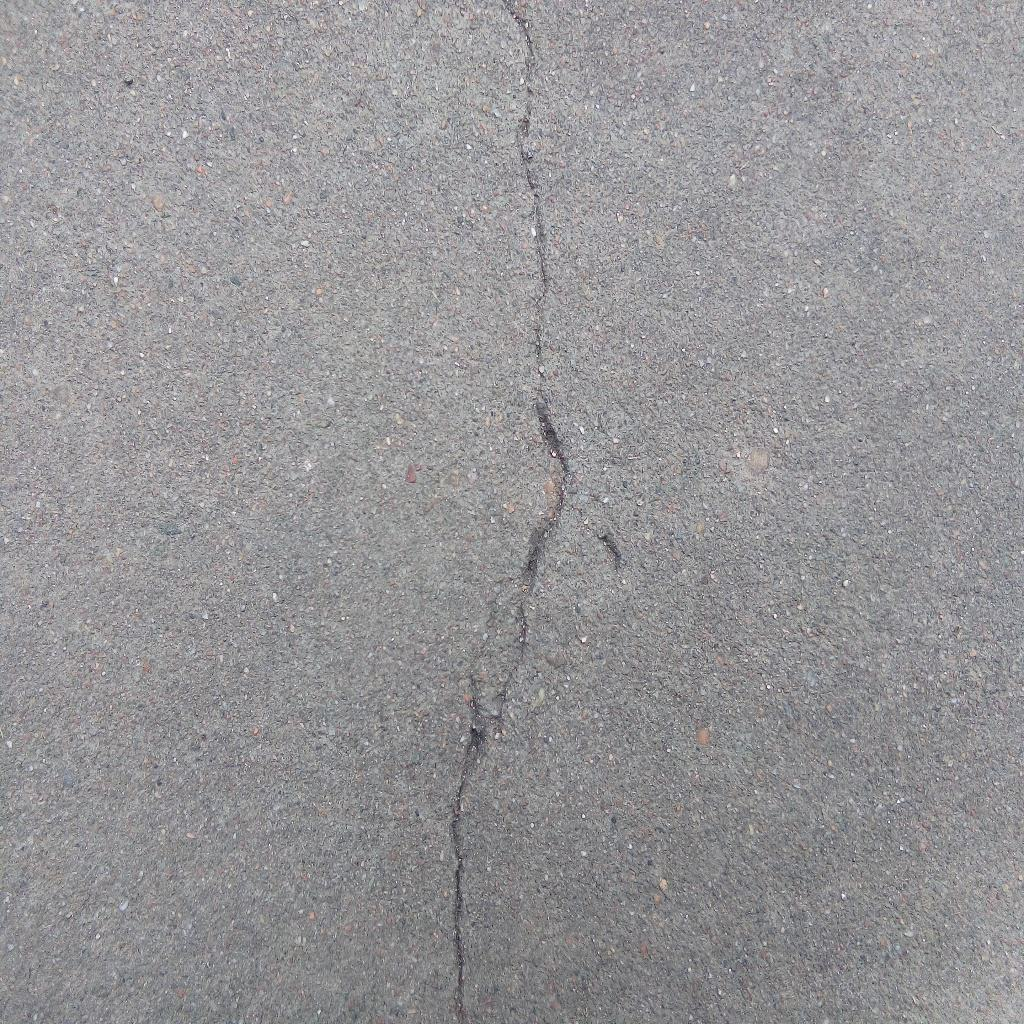Crack: (450, 1, 568, 1024)
